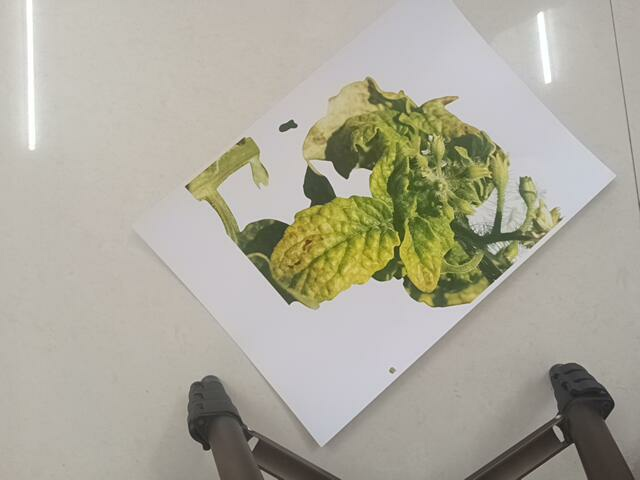Tomamto_Leaf_curl_virus: (181, 111, 571, 301)
